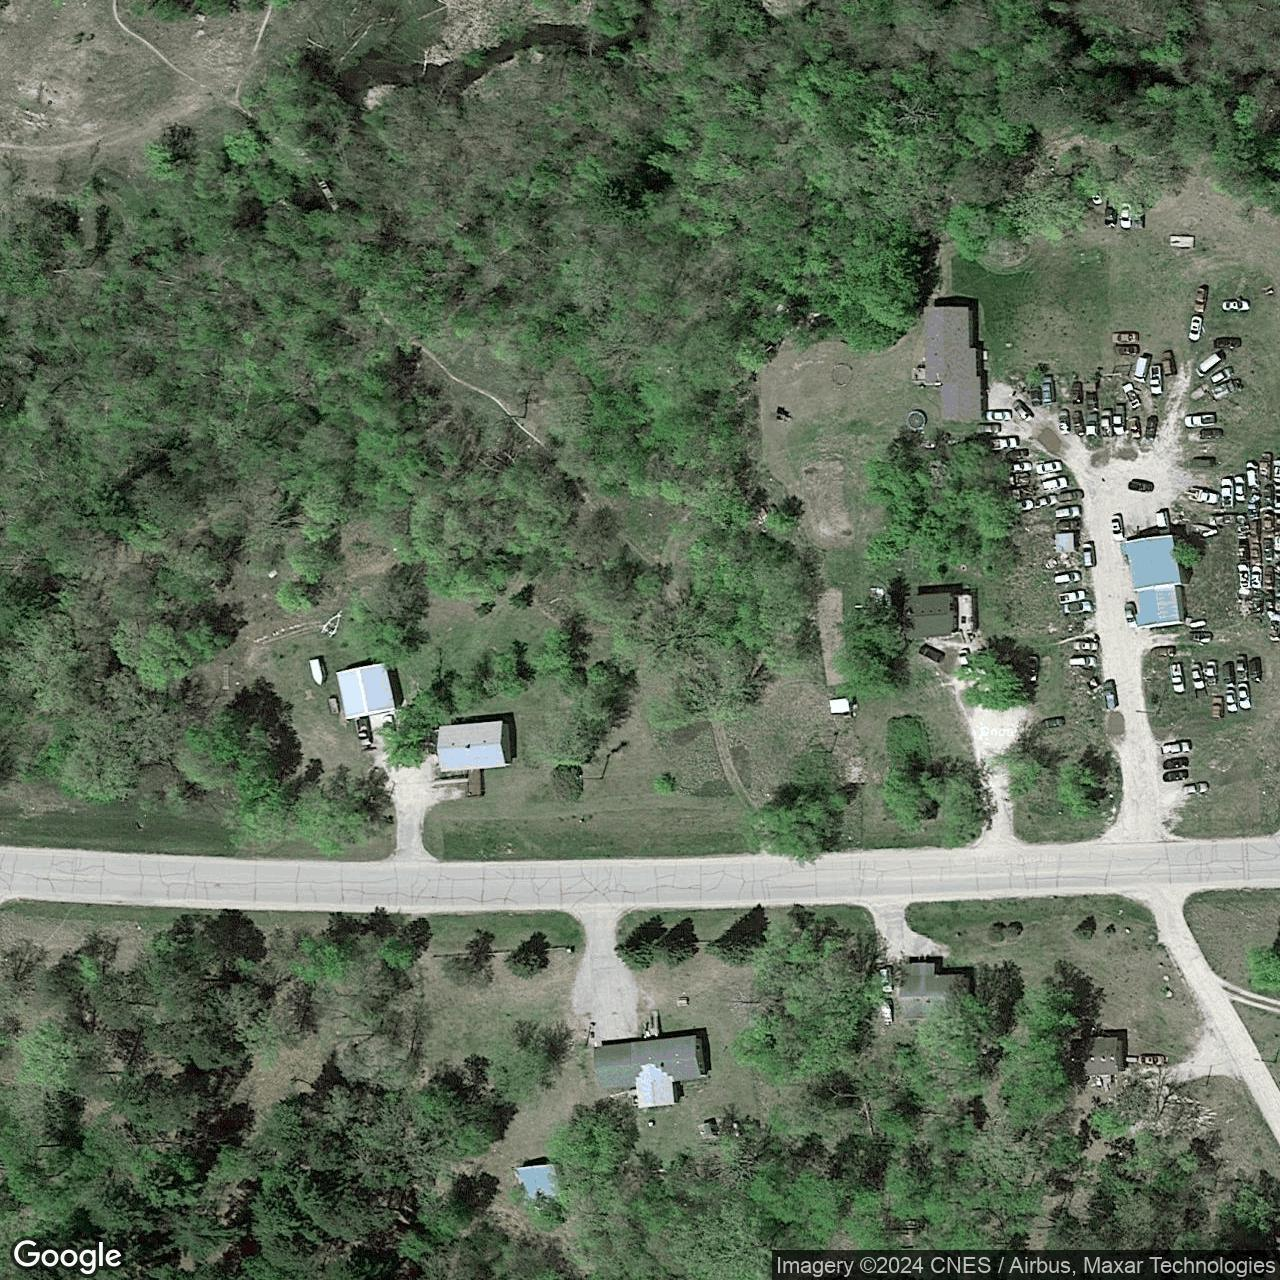Garage: (1125, 535, 1190, 631), (335, 660, 406, 720), (513, 1164, 565, 1201)
House: (592, 1034, 707, 1109), (924, 306, 987, 421), (436, 722, 513, 772), (903, 591, 958, 640), (898, 962, 969, 999), (1070, 1039, 1126, 1076)
